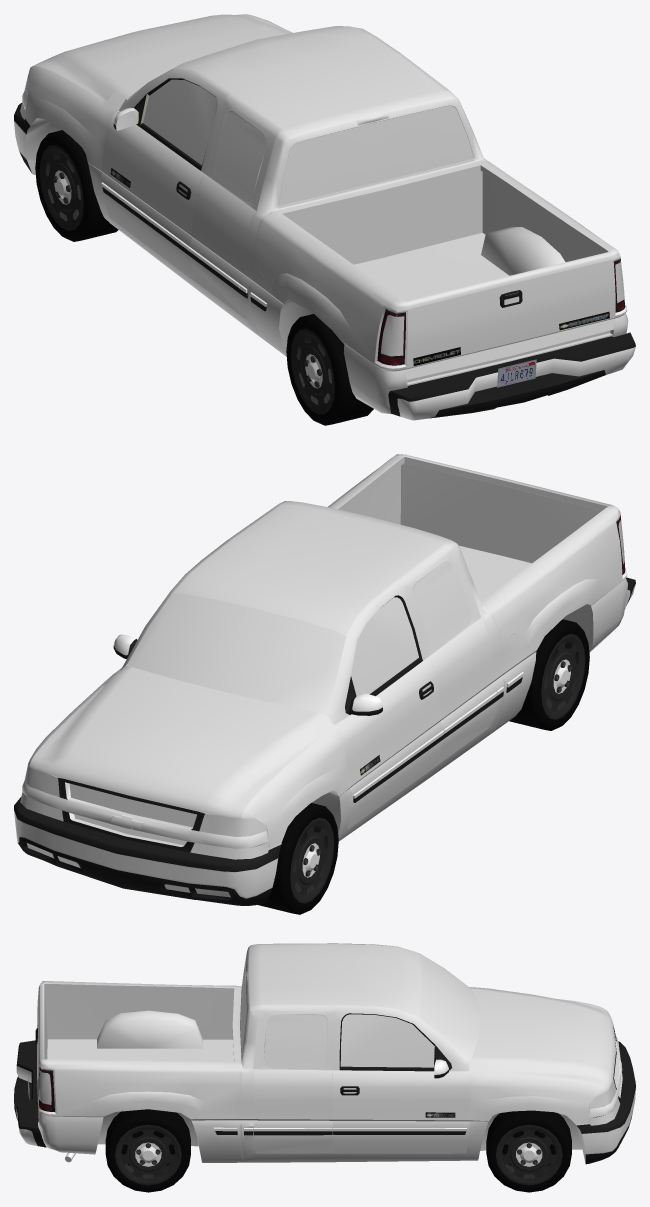
The model's file is MCLA_VA_CHV_SILVERADO_04.glb.
3 views of the same model, one above another, from view 1: azimuth 30°, elevation 25°; view 2: azimuth 150°, elevation 25°; view 3: azimuth 270°, elevation 25° (orthographic). The views are drawn at different scales.
Parts seen in each view (by area): view 1: va_chv_silverado_04/resources/vehicle/va_chv_silverado_04/bo (×6); view 2: va_chv_silverado_04/resources/vehicle/va_chv_silverado_04/bo (×6); view 3: va_chv_silverado_04/resources/vehicle/va_chv_silverado_04/bo (×7).
Boxes of the visible parts, x1,y1,x2,y2 form: va_chv_silverado_04/resources/vehicle/va_chv_silverado_04/bo (×6): (14, 14, 635, 425); va_chv_silverado_04/resources/vehicle/va_chv_silverado_04/bo (×6): (14, 454, 635, 914); va_chv_silverado_04/resources/vehicle/va_chv_silverado_04/bo (×7): (14, 943, 635, 1192).
Size of the model in its own units: 2.08 by 1.72 by 5.53.
12 materials, 8 textured.
